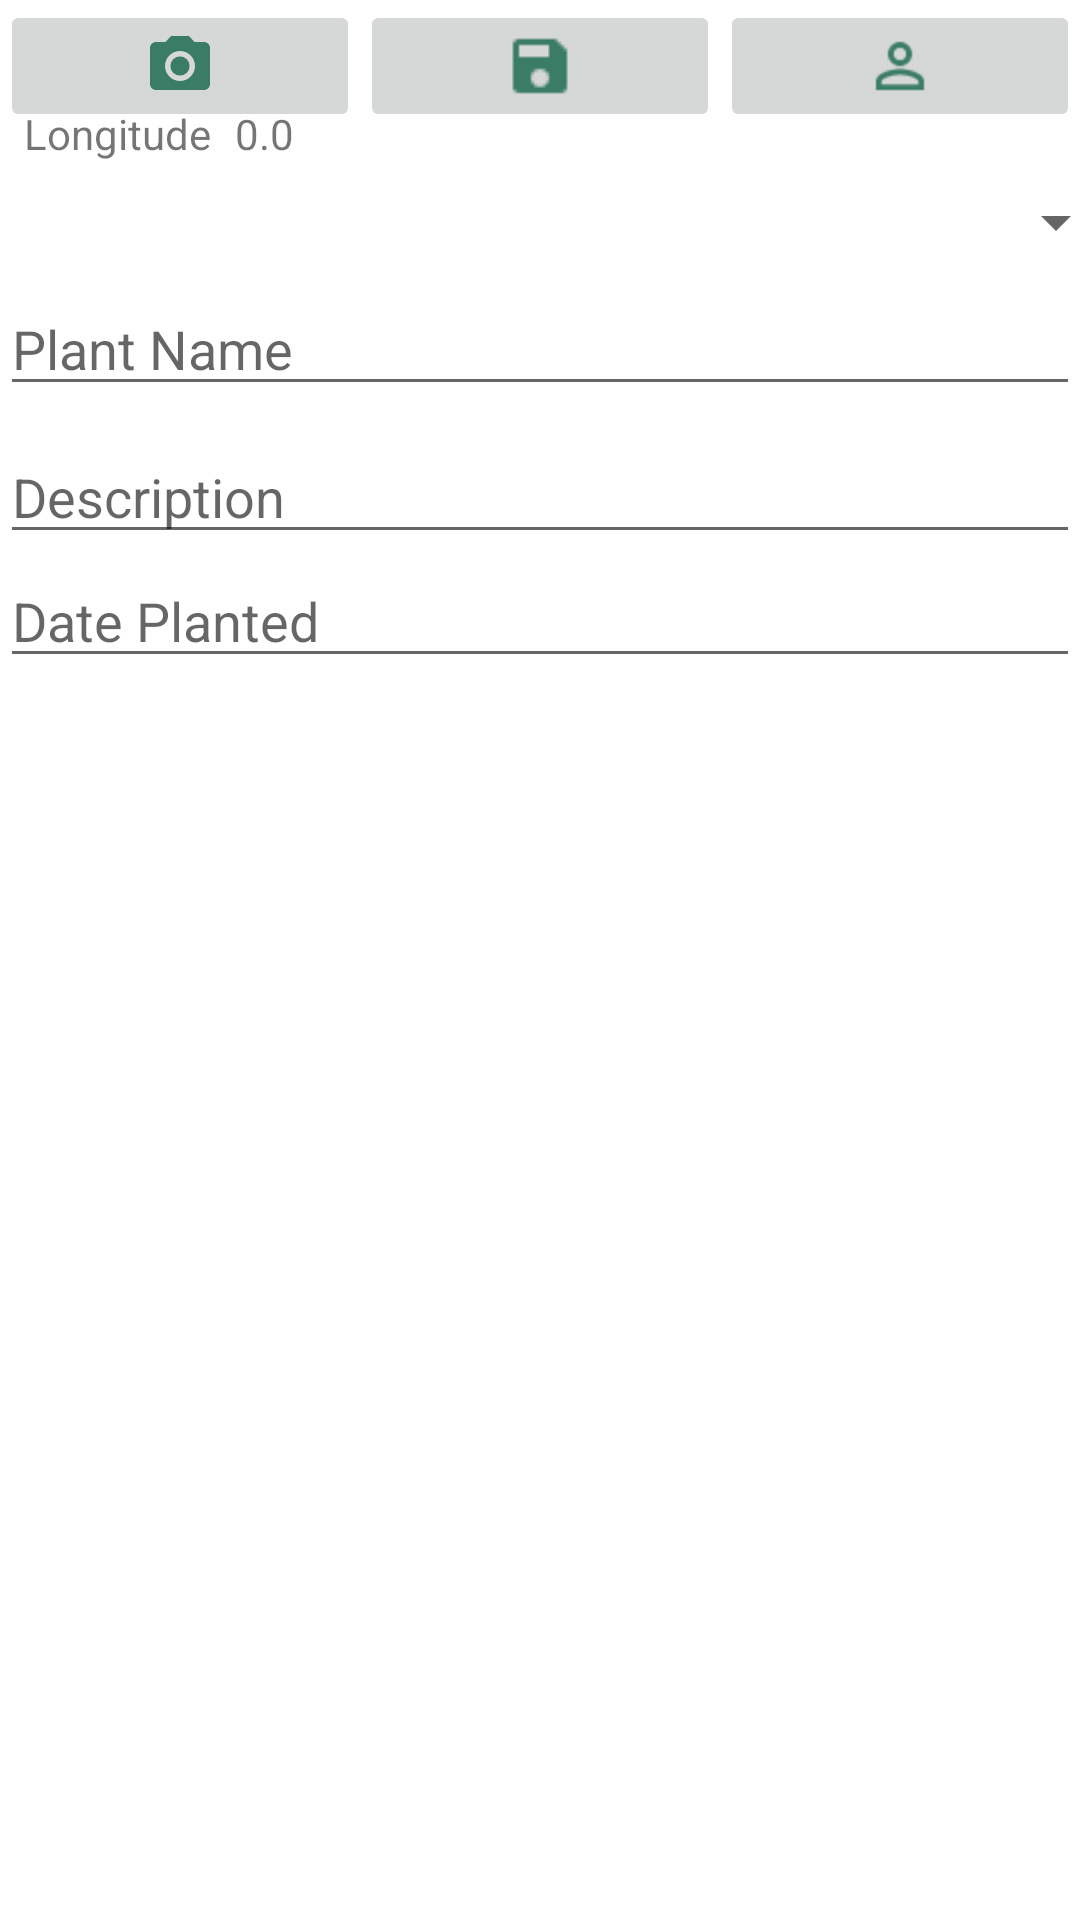

Screen size 1080px×1920px. Icon name, then its box in pixels as (x1, y1, x2, y2):
photo: (12, 18, 348, 124)
save: (372, 18, 708, 114)
